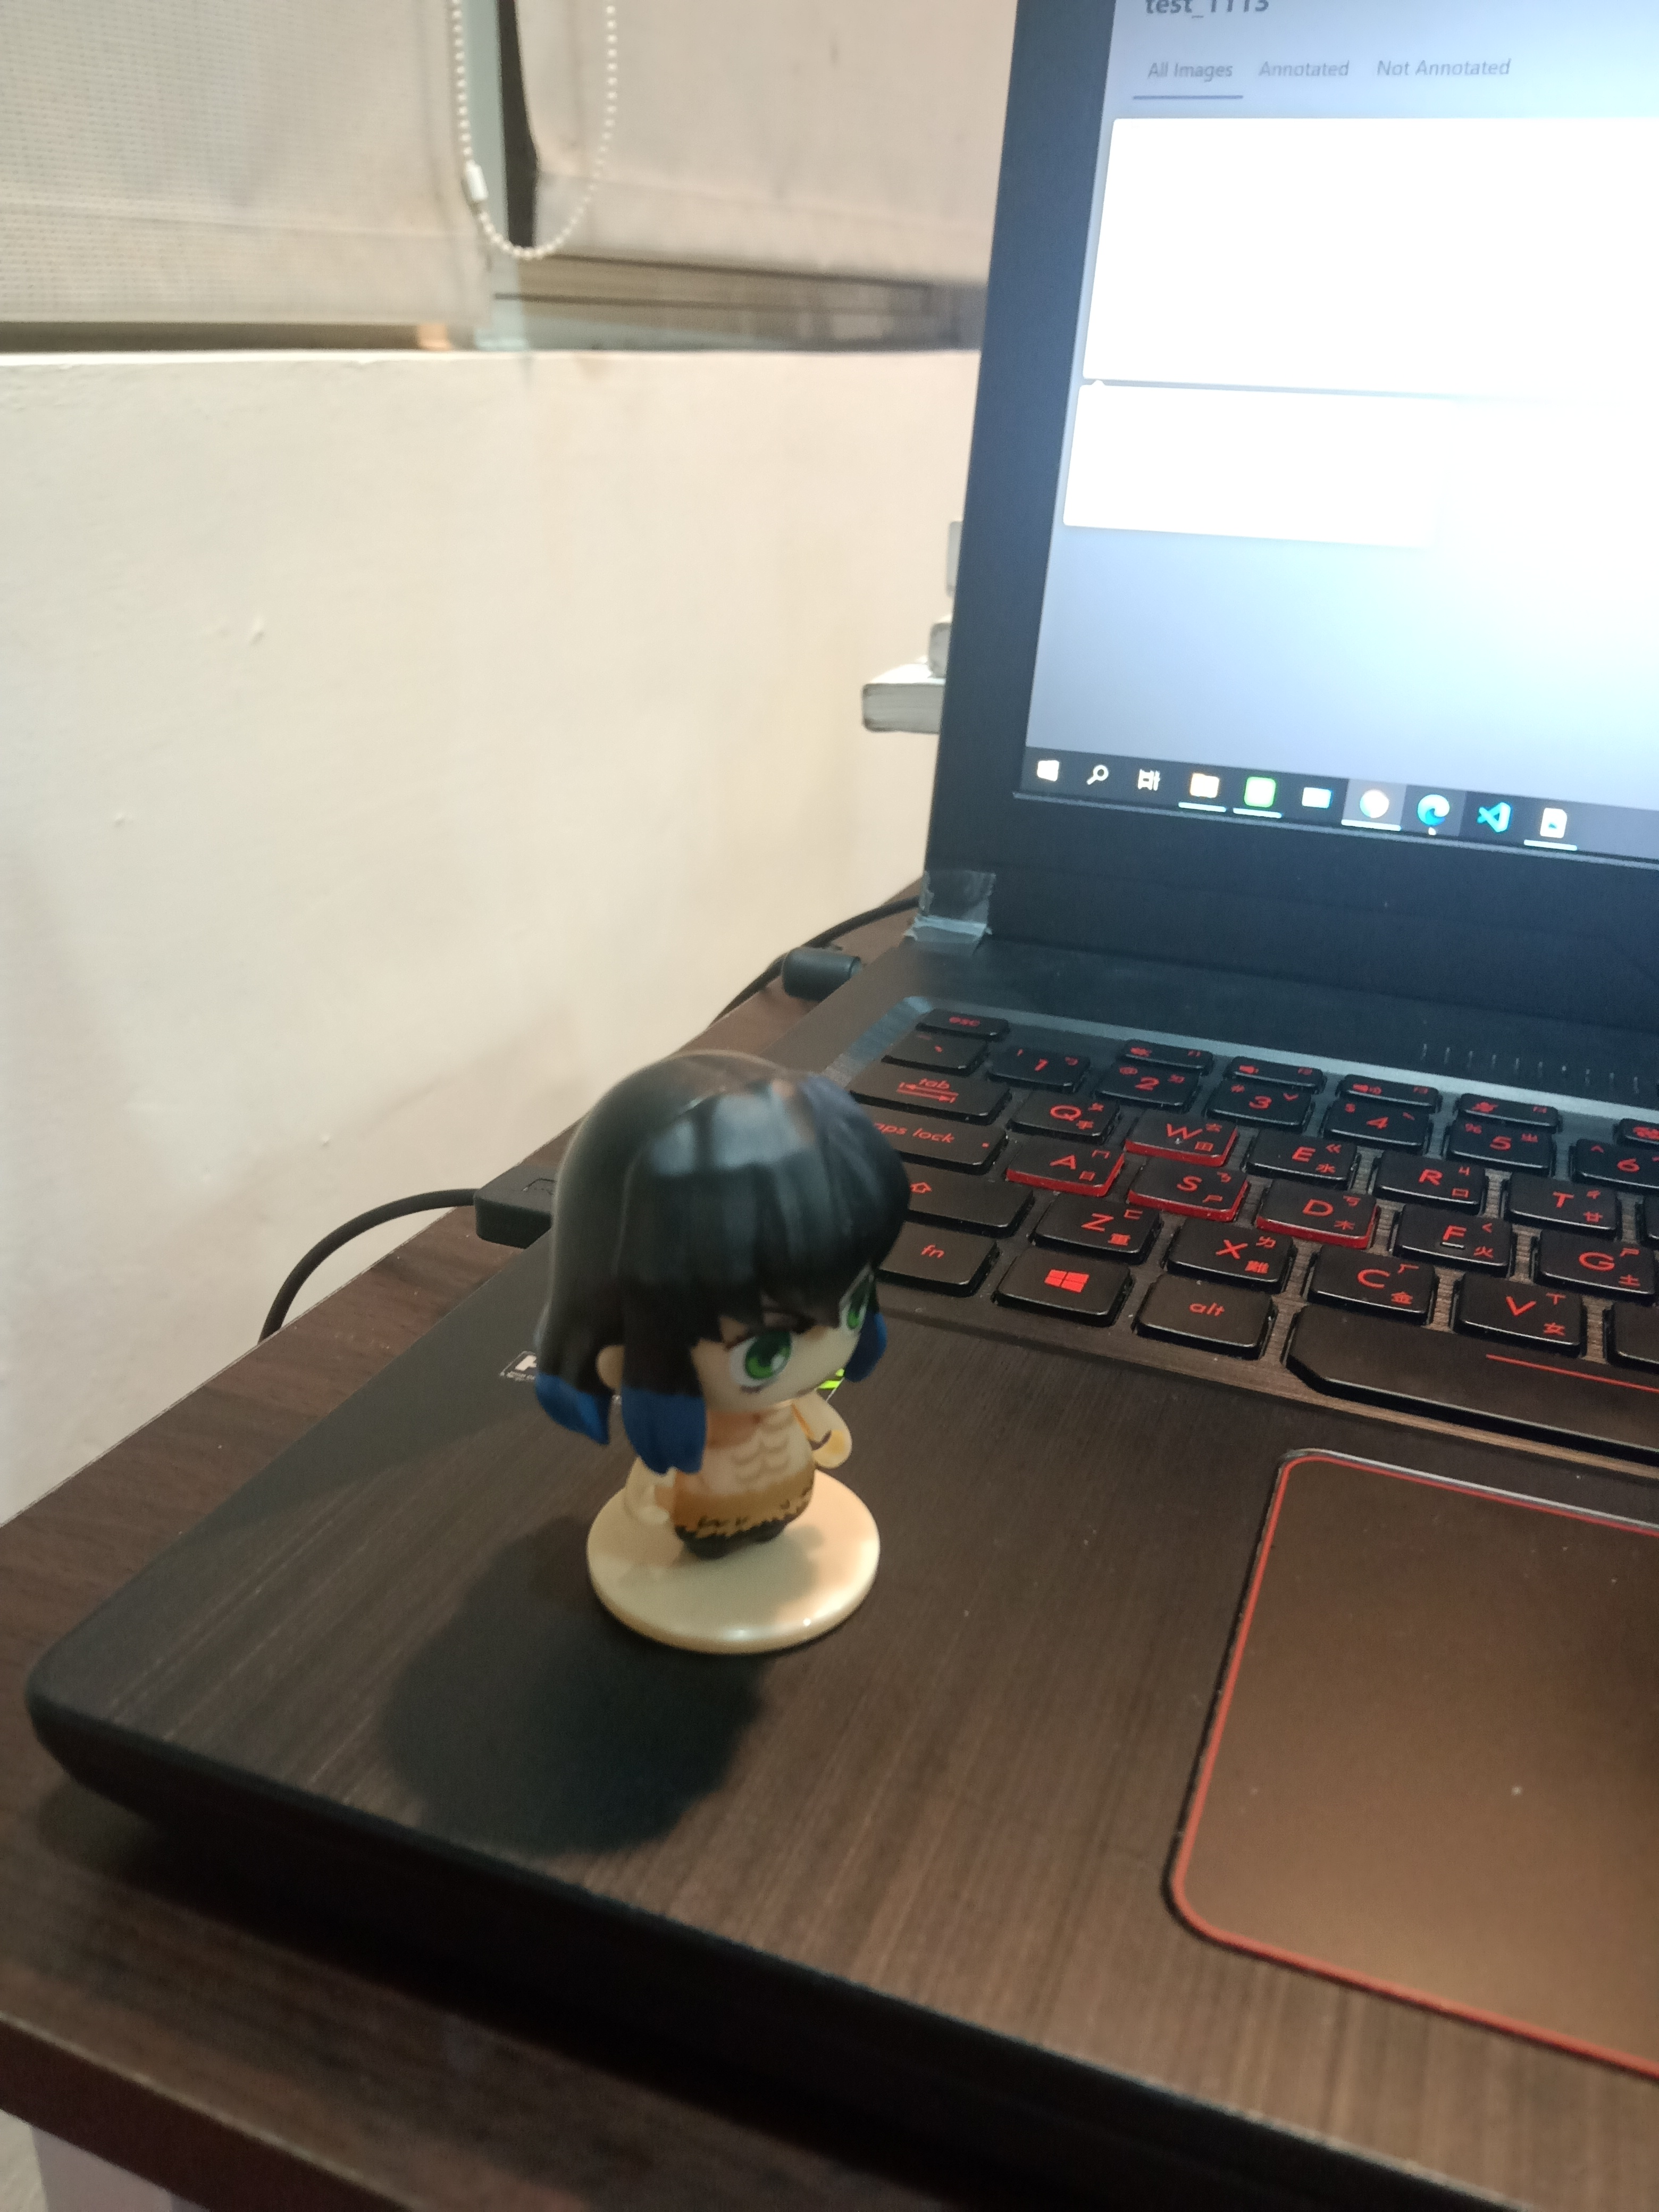Inosuke: (523, 1042, 922, 1676)
